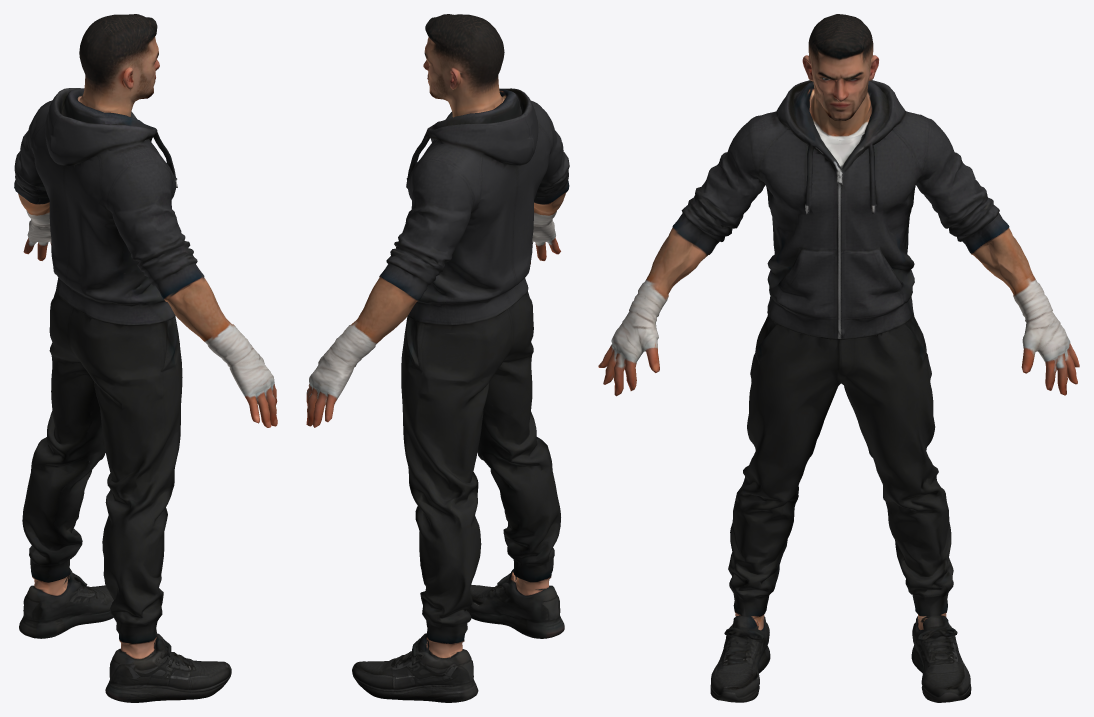
File: raw.glb
3 views of the same model, side by side, from view 1: azimuth 30°, elevation 25°; view 2: azimuth 150°, elevation 25°; view 3: azimuth 270°, elevation 25° (orthographic). The views are drawn at different scales.
Parts seen in each view (by area): view 1: tripo_node_b0af0c4e-74c6-4197-af18-0a1474f5d97c; view 2: tripo_node_b0af0c4e-74c6-4197-af18-0a1474f5d97c; view 3: tripo_node_b0af0c4e-74c6-4197-af18-0a1474f5d97c.
Part boxes in pixels (x1=…): tripo_node_b0af0c4e-74c6-4197-af18-0a1474f5d97c: x1=14, y1=14, x2=277, y2=702; tripo_node_b0af0c4e-74c6-4197-af18-0a1474f5d97c: x1=306, y1=14, x2=569, y2=702; tripo_node_b0af0c4e-74c6-4197-af18-0a1474f5d97c: x1=598, y1=14, x2=1079, y2=702.
Bounding box in the file's own units: 0.2123 × 1 × 0.6579.
1 material, 1 textured.
